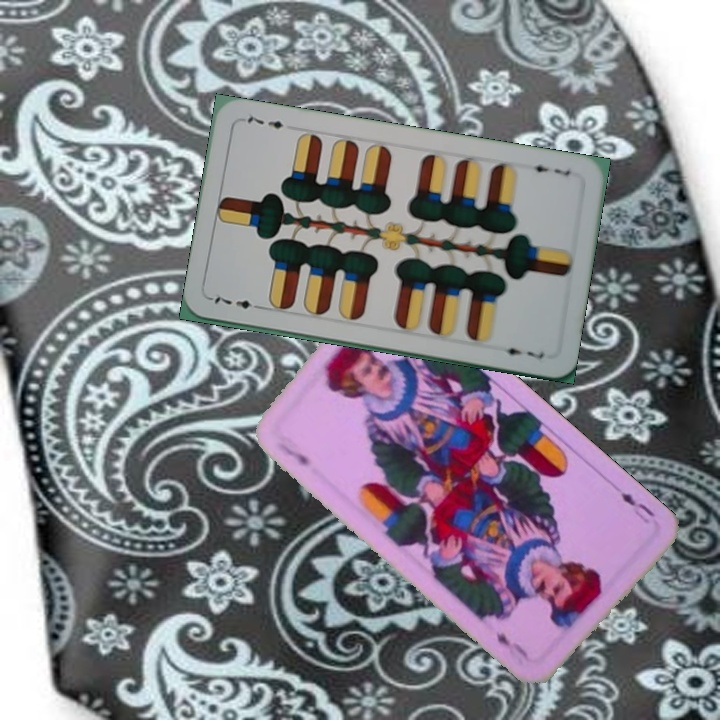E7: (207, 291, 266, 312), (523, 159, 573, 179)
EU: (616, 488, 657, 520), (272, 437, 312, 469)
